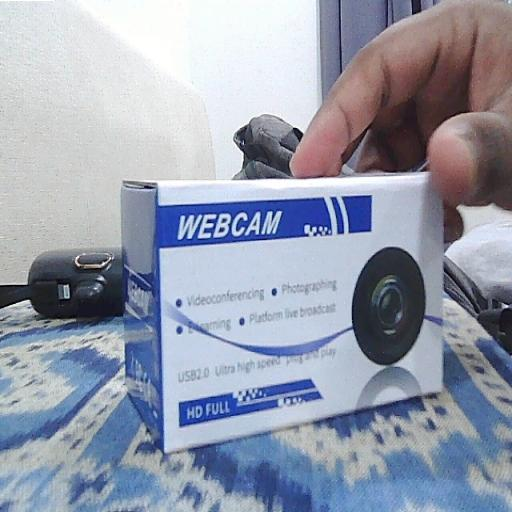webcam_box: (119, 170, 445, 458)
